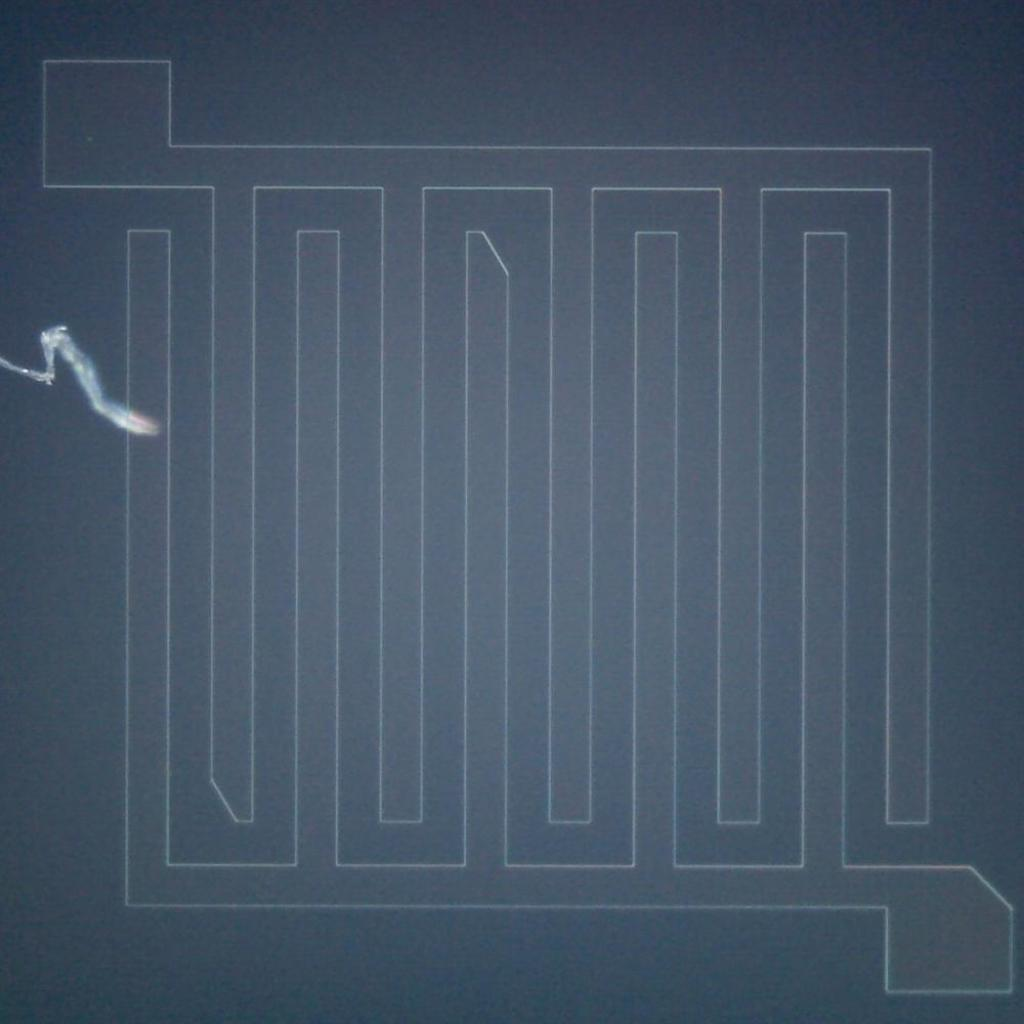curve: (38, 320, 76, 358), (70, 359, 108, 397), (0, 351, 37, 387), (130, 405, 166, 440), (88, 398, 125, 432)
dot: (86, 136, 93, 142)
